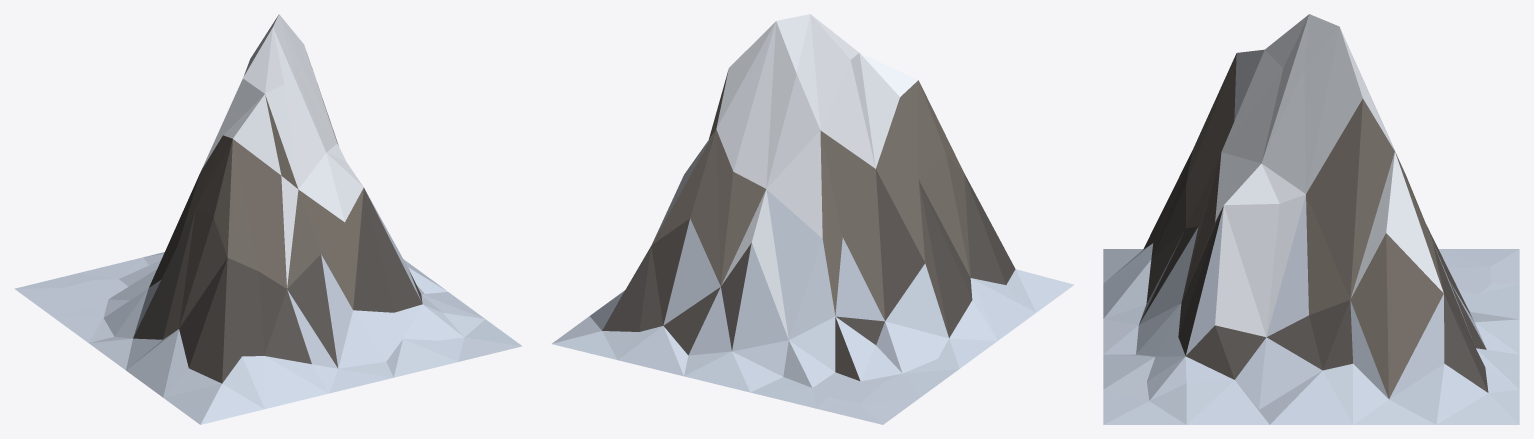
File: mountain_snow_c.obj
3 views of the same model, side by side, from view 1: azimuth 30°, elevation 25°; view 2: azimuth 150°, elevation 25°; view 3: azimuth 270°, elevation 25° (orthographic). The views are drawn at different scales.
Bounding box in the file's own units: 4 × 3.44 × 4.
